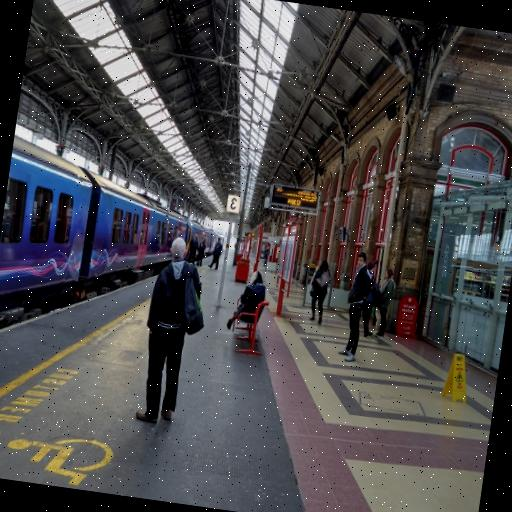platform_edge: (0, 244, 153, 495)
